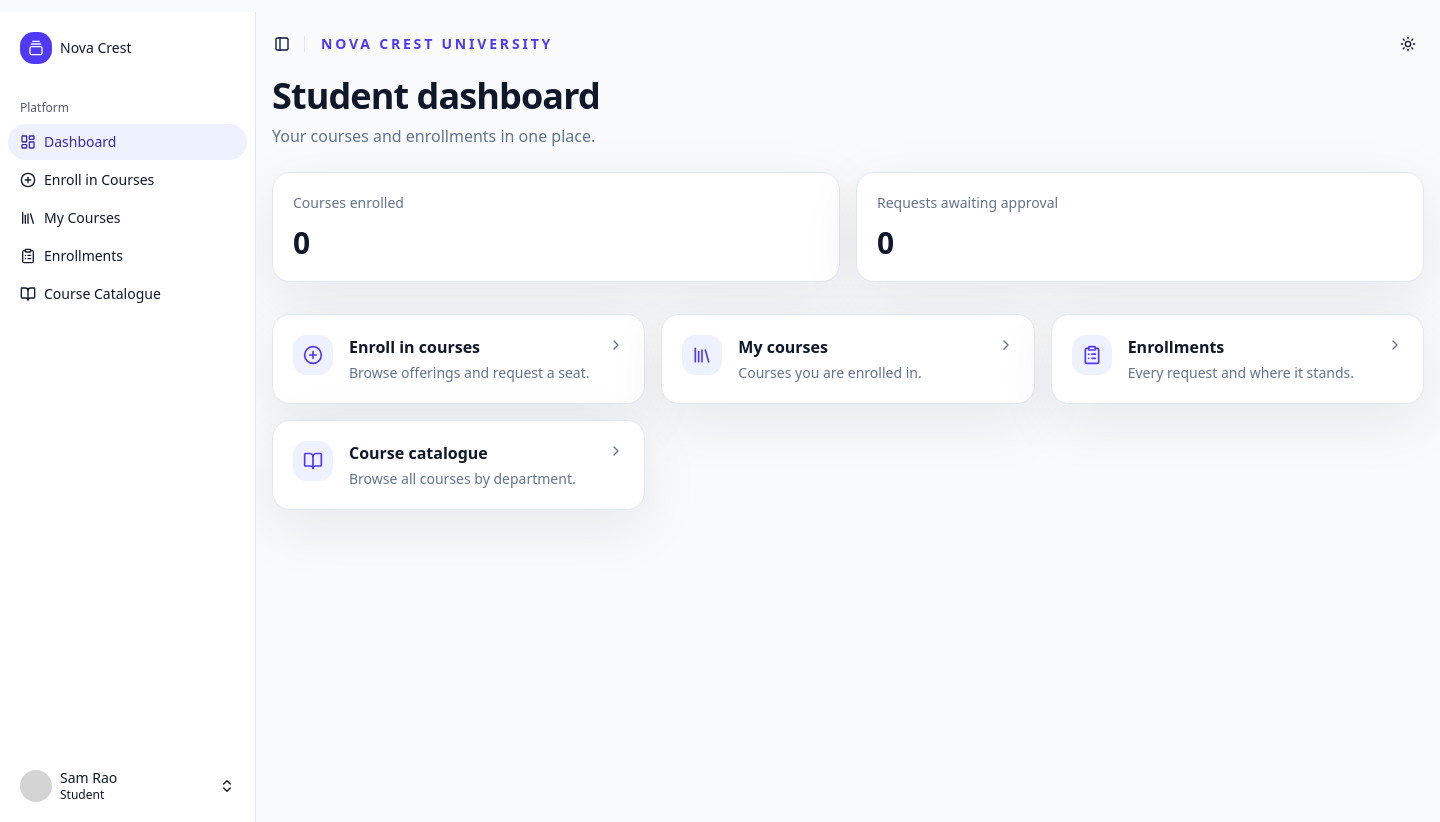
Test: ProfileView › opens from the user menu
Click the button "Sam Rao student": (128, 786) [8,758,247,814]
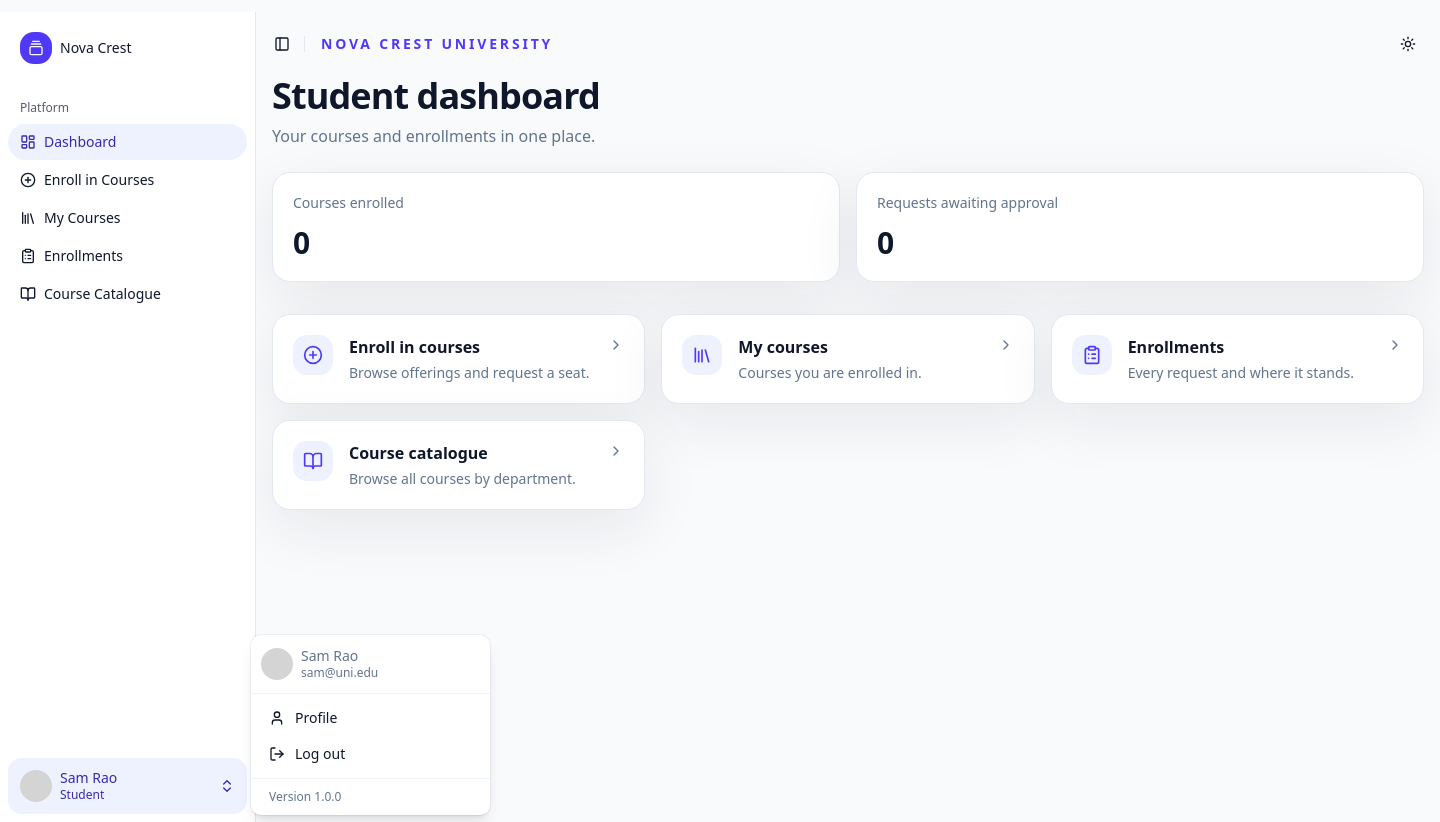
Click the menu item "Profile": (303, 717) [269,708,337,726]
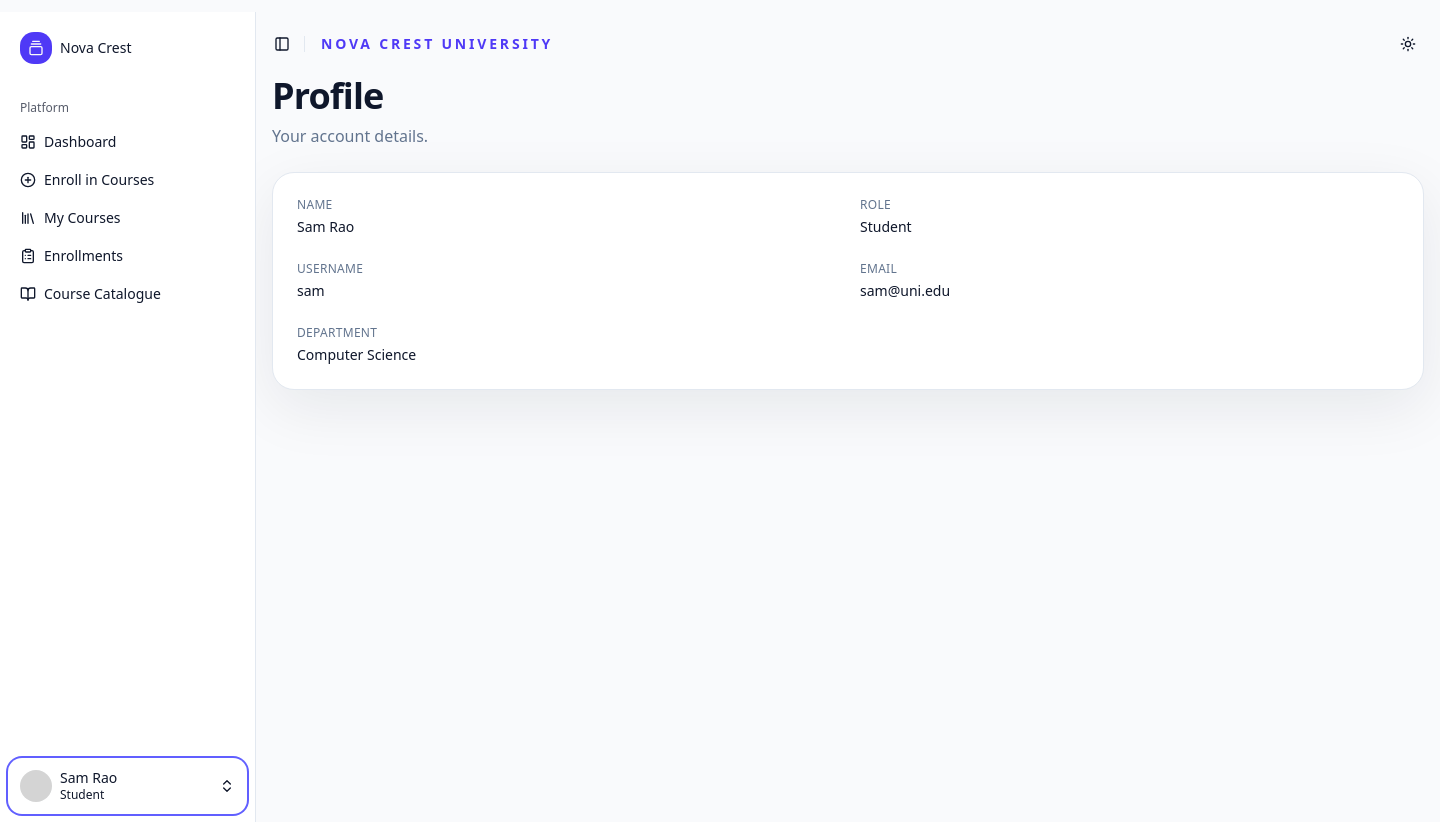
Expected: the heading "Profile" is shown, [272,71,383,120]
